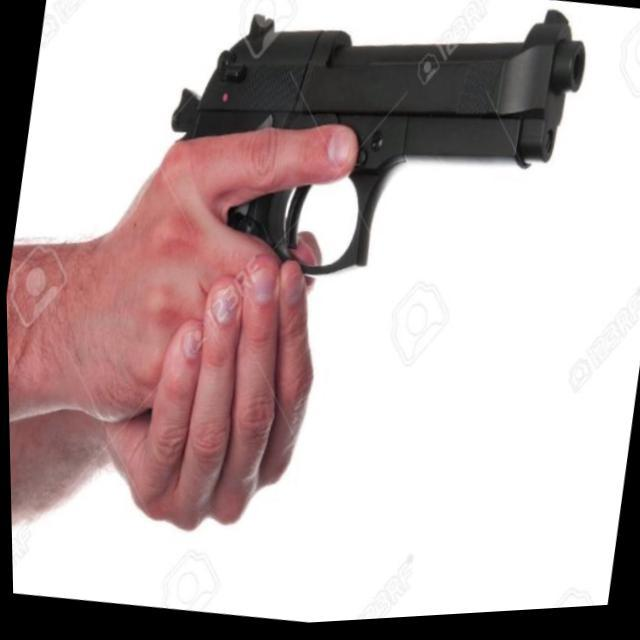weapon: (146, 0, 597, 325)
